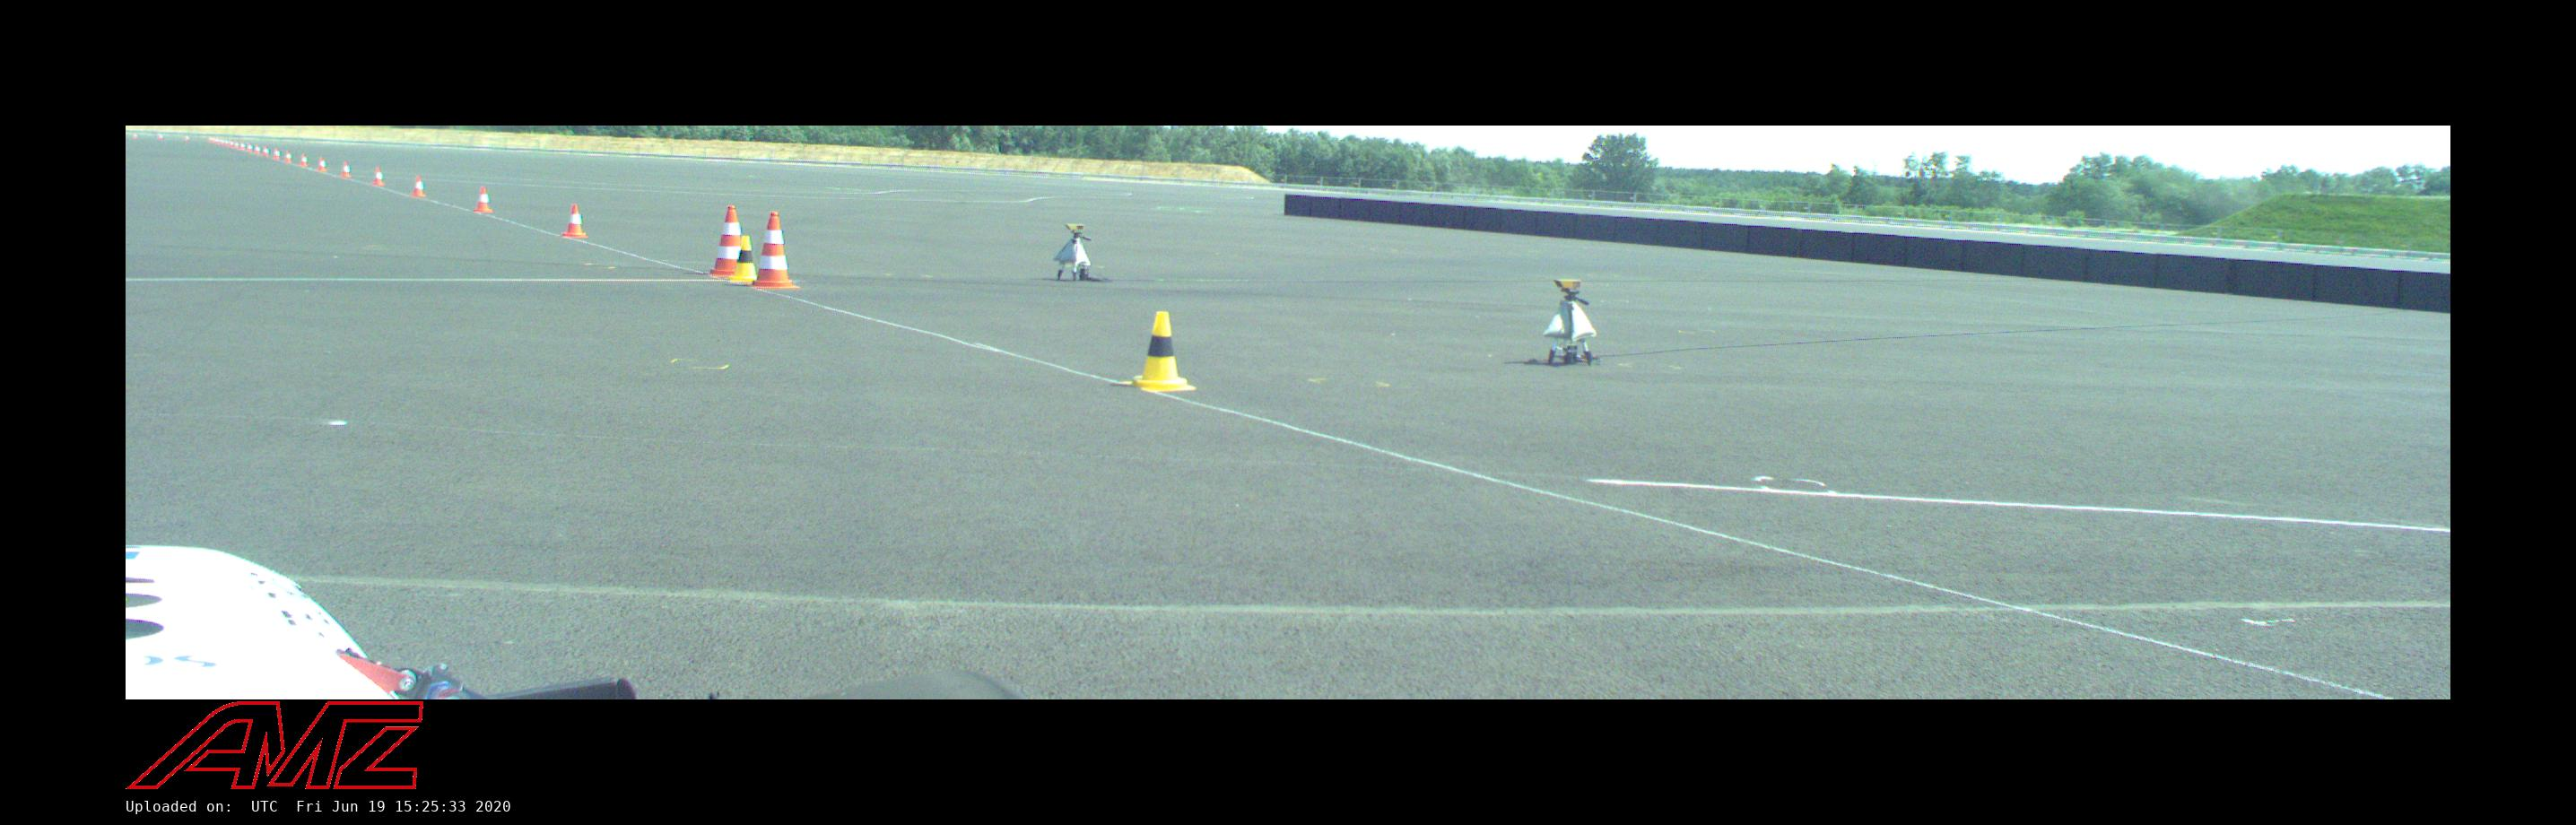large_orange_cone: (749, 212, 800, 289), (710, 207, 749, 276)
orange_cone: (562, 204, 588, 238), (473, 187, 493, 212), (370, 168, 384, 186), (412, 176, 425, 196), (338, 161, 350, 177), (317, 156, 327, 171), (299, 153, 309, 166), (284, 150, 292, 163), (273, 148, 281, 159), (253, 145, 261, 154), (261, 146, 269, 156), (240, 141, 246, 151), (233, 140, 240, 150), (248, 143, 253, 151)
yellow_cone: (1125, 312, 1194, 391), (728, 237, 762, 281)
